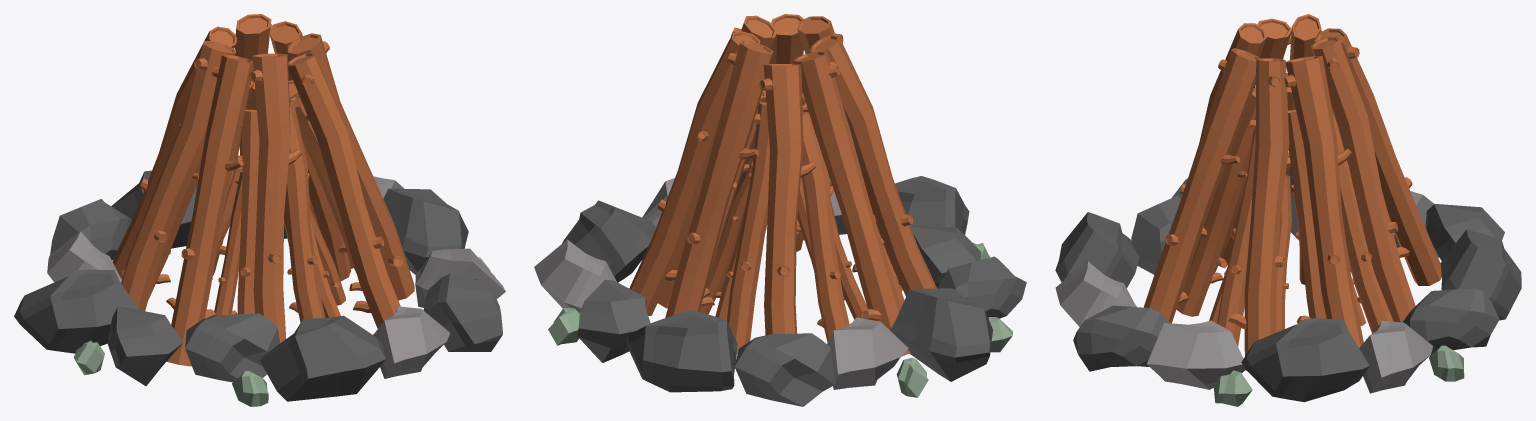
The model's file is Api Unggun.fbx.
The picture shows the model from 3 angles, left to right: view 1: azimuth 30°, elevation 25°; view 2: azimuth 150°, elevation 25°; view 3: azimuth 270°, elevation 25°; orthographic projection.
Visible parts, largest first — view 1: Campfire; view 2: Campfire; view 3: Campfire.
Part boxes in pixels (x1,y1,x2,y2): Campfire: (14, 14, 505, 406); Campfire: (534, 14, 1026, 406); Campfire: (1055, 14, 1521, 406).
Bounding box in the file's own units: 86.52 × 54.34 × 81.7.
